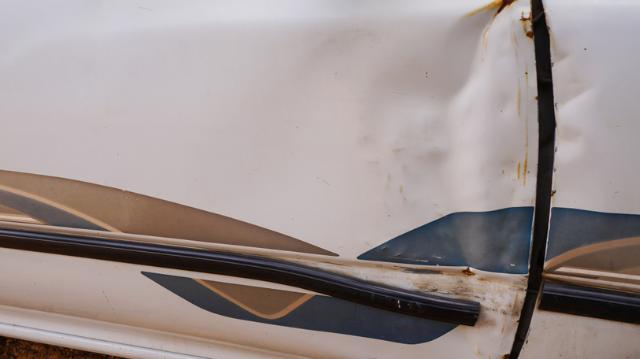Door: (322, 0, 532, 359)
